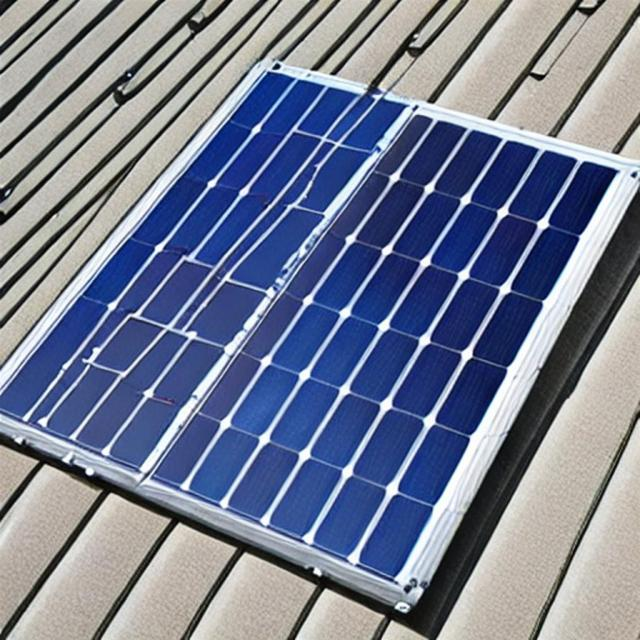no faulty: (0, 67, 619, 578)
